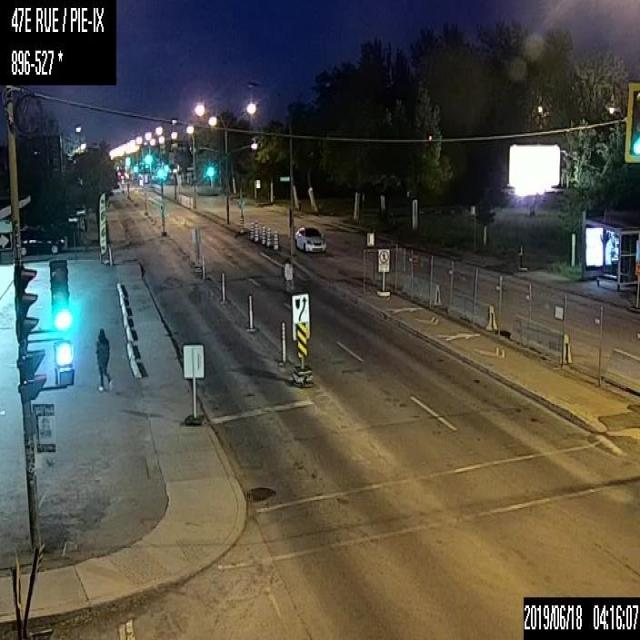construction: (279, 320, 287, 365), (247, 294, 254, 331), (221, 271, 226, 303), (253, 222, 259, 241), (266, 227, 272, 246), (260, 223, 265, 243), (273, 230, 278, 249), (249, 221, 254, 239)
pedestrian: (94, 324, 111, 391)
vehicle: (291, 223, 327, 252), (19, 232, 64, 255)
